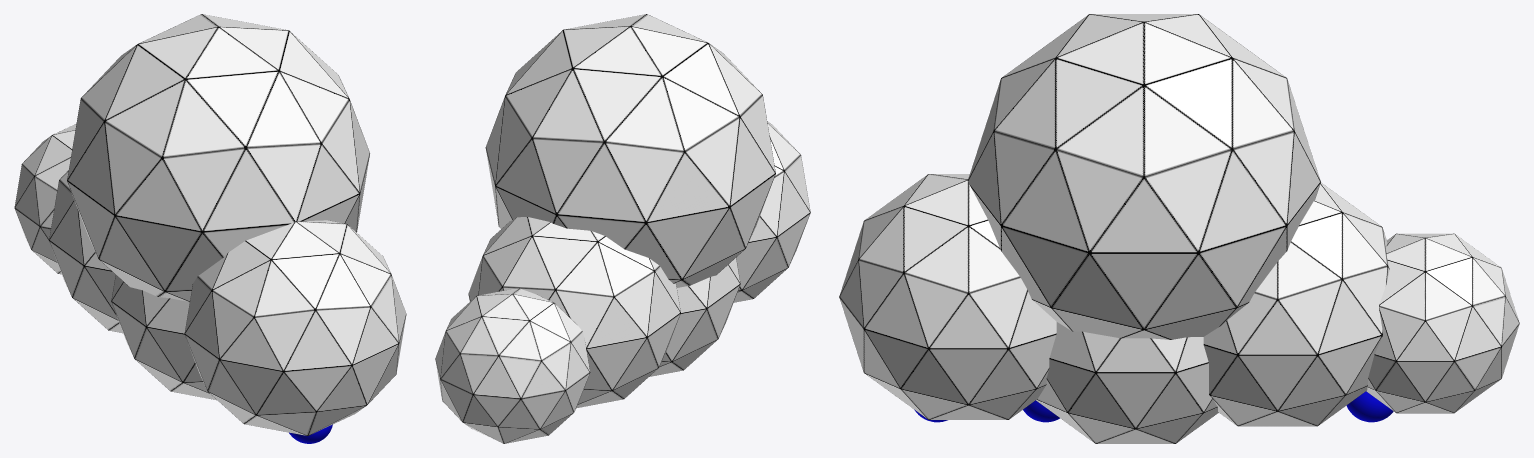
File: RainyAnimation.glb
The picture shows the model from 3 angles, left to right: view 1: azimuth 30°, elevation 25°; view 2: azimuth 150°, elevation 25°; view 3: azimuth 270°, elevation 25°; orthographic projection. The views are drawn at different scales.
Visible parts, largest first — view 1: RainyCloud; view 2: RainyCloud; view 3: RainyCloud, RainyRainDrop.
Boxes of the visible parts, x1,y1,x2,y2 form: RainyCloud: [14, 14, 406, 435]; RainyCloud: [435, 14, 810, 443]; RainyCloud: [839, 14, 1519, 443]; RainyRainDrop: [914, 391, 1393, 422].
Bounding box in the file's own units: 1.9 × 2.6 × 3.85.
Materials: 2 (1 with a texture image).
